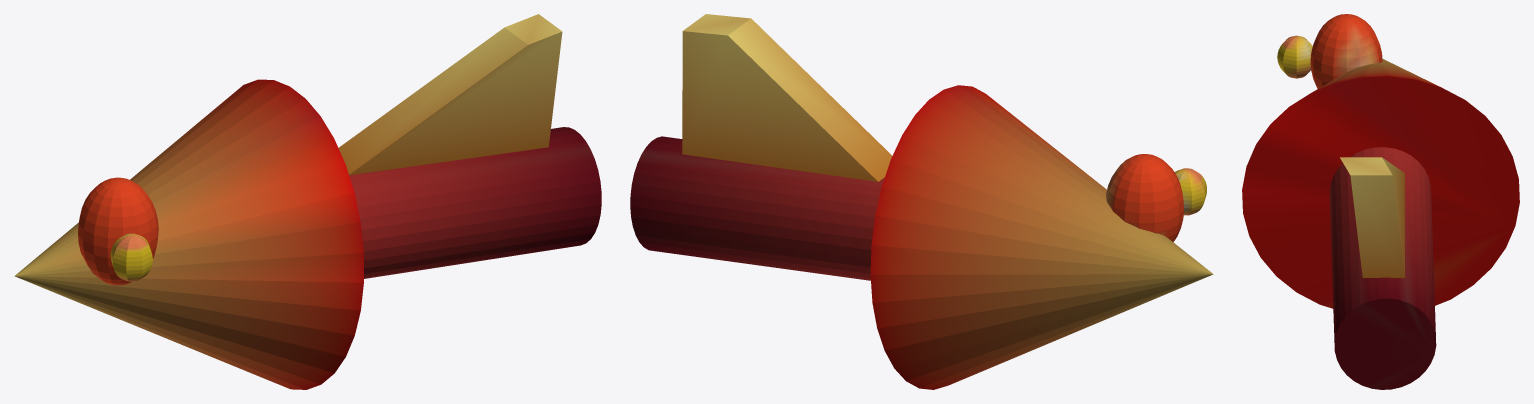
File: FlechaFogo.fbx
3 renders of one model, left to right at view 1: azimuth 30°, elevation 25°; view 2: azimuth 150°, elevation 25°; view 3: azimuth 270°, elevation 25°, orthographic. The views are drawn at different scales.
Visible parts, largest first — view 1: Cone, Cilindro, Cubo, Esfera UV, Esfera UV.001; view 2: Cone, Cilindro, Cubo, Esfera UV, Esfera UV.001; view 3: Cone, Cilindro, Cubo, Esfera UV, Esfera UV.001.
Boxes of the visible parts, x1,y1,x2,y2 form: Cone: [14, 79, 363, 389]; Cilindro: [349, 127, 601, 278]; Cubo: [338, 14, 562, 175]; Esfera UV: [78, 177, 158, 285]; Esfera UV.001: [110, 233, 152, 281]; Cone: [870, 85, 1213, 389]; Cilindro: [630, 136, 884, 280]; Cubo: [682, 14, 892, 181]; Esfera UV: [1106, 154, 1183, 241]; Esfera UV.001: [1174, 168, 1206, 215]; Cone: [1242, 59, 1519, 308]; Cilindro: [1329, 147, 1436, 389]; Cubo: [1340, 157, 1404, 277]; Esfera UV: [1310, 14, 1382, 88]; Esfera UV.001: [1277, 35, 1312, 78].
Bounding box in the file's own units: 2.64 × 1.31 × 1.26.
